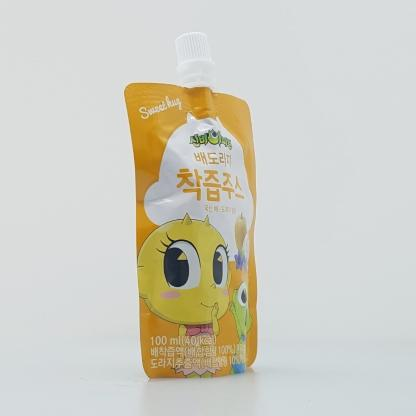-------------------100ML: (124, 31, 258, 378)
